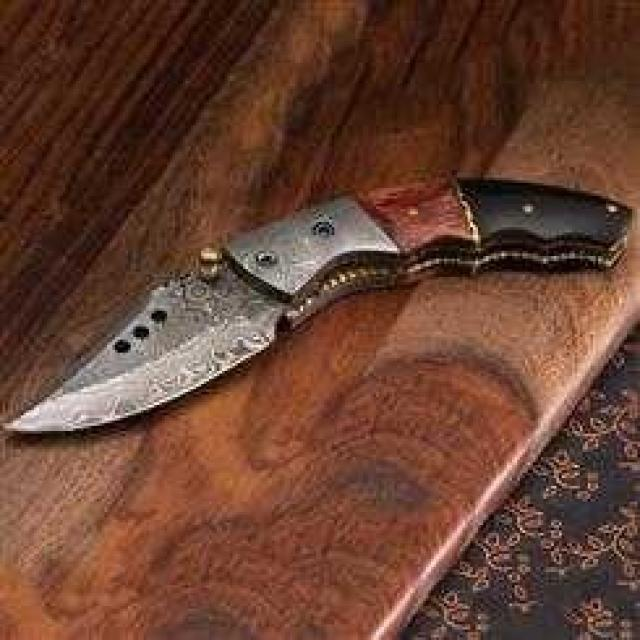knife: (0, 172, 638, 453)
